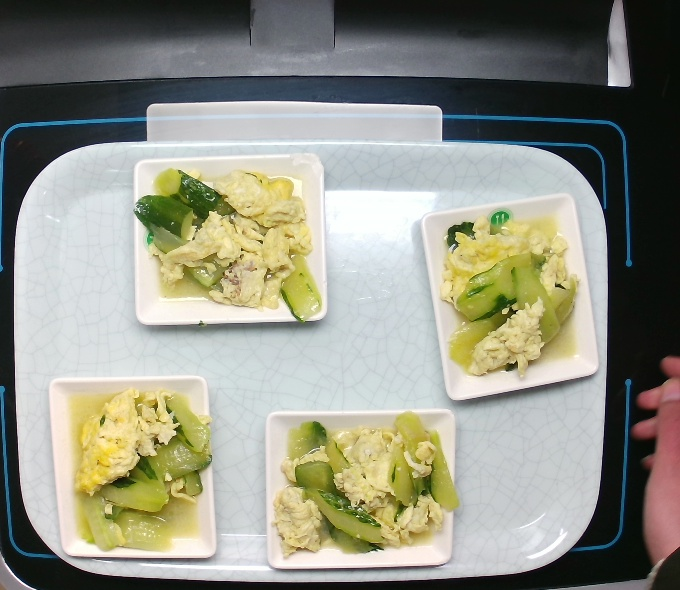wcq-DanHuangHuangGua: (127, 163, 327, 323), (263, 402, 463, 560), (435, 210, 587, 393), (67, 386, 218, 559)
